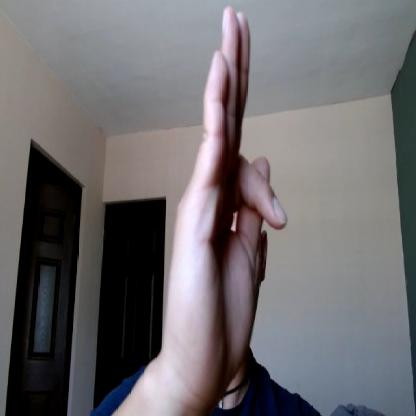F: (164, 4, 288, 391)
